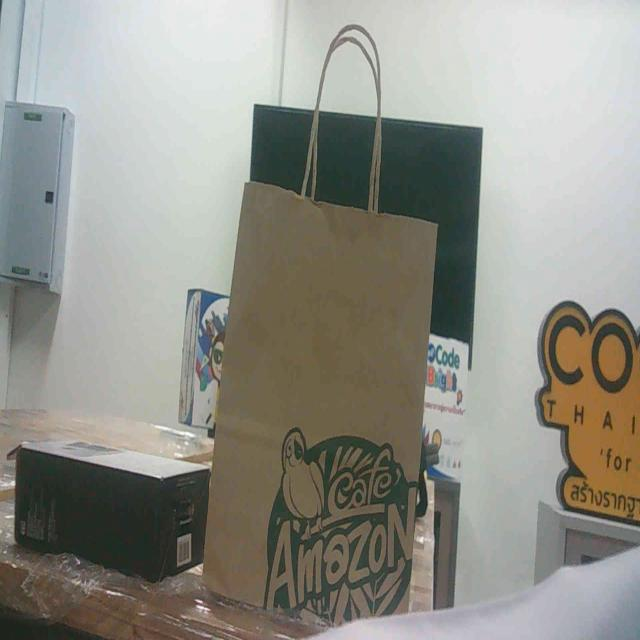bag: (198, 156, 442, 640)
